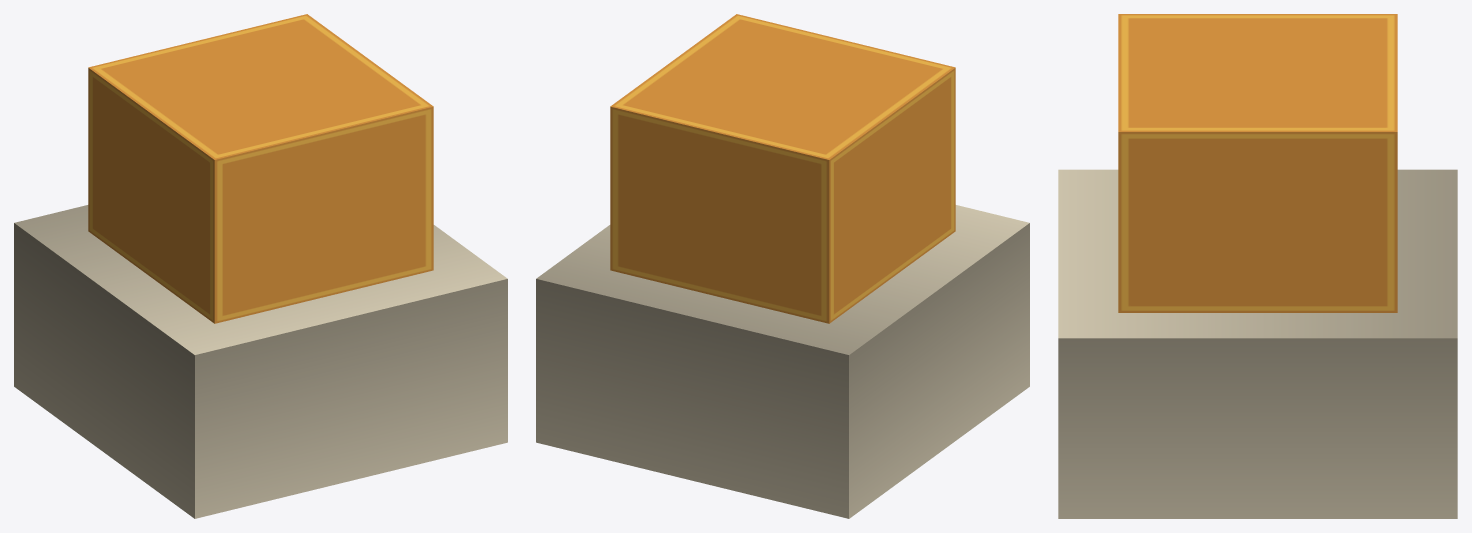
Rendered from LGT_CandleCluster.glb.
3 views of the same model, side by side, from view 1: azimuth 30°, elevation 25°; view 2: azimuth 150°, elevation 25°; view 3: azimuth 270°, elevation 25° (orthographic). The views are drawn at different scales.
Visible parts, largest first — view 1: LGT_CandleCluster; view 2: LGT_CandleCluster; view 3: LGT_CandleCluster.
Boxes of the visible parts, x1,y1,x2,y2 form: LGT_CandleCluster: (14, 14, 507, 518); LGT_CandleCluster: (536, 14, 1029, 518); LGT_CandleCluster: (1058, 14, 1457, 518).
Bounding box in the file's own units: 0.35 × 0.35 × 0.35.
1 material, 1 textured.
